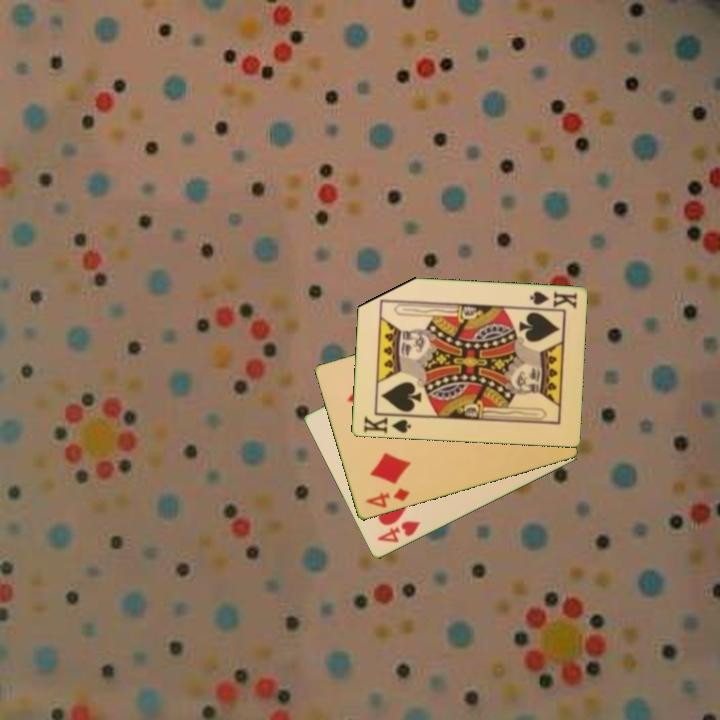4d: (363, 484, 412, 511)
4h: (373, 518, 423, 546)
Ks: (526, 288, 580, 311), (360, 414, 414, 436)
